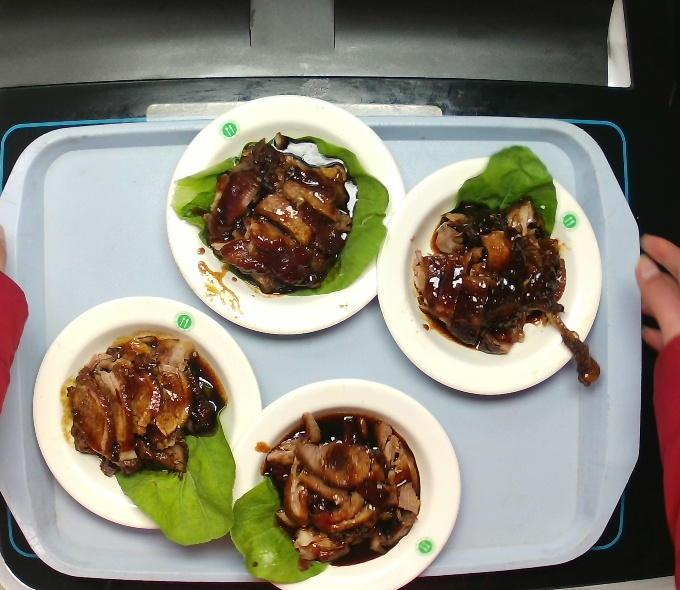wcq-MiZhiYa: (401, 148, 584, 374), (171, 130, 384, 305), (66, 336, 230, 527), (250, 405, 428, 578)
